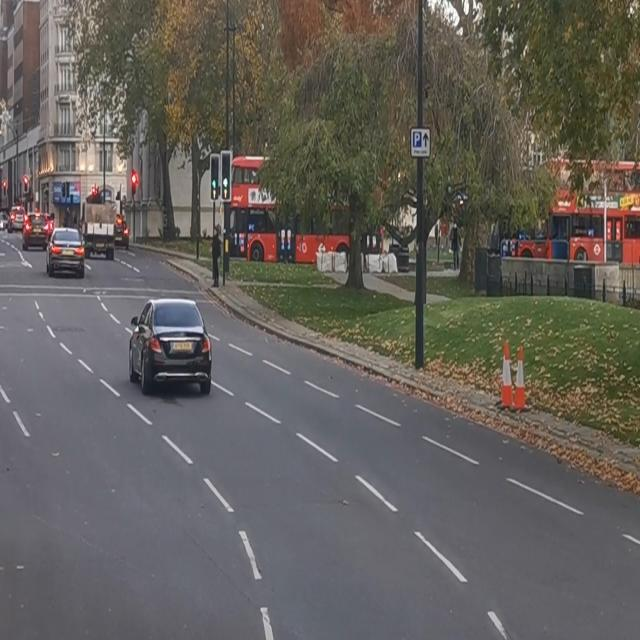Car: (128, 299, 213, 404), (46, 226, 84, 283)
